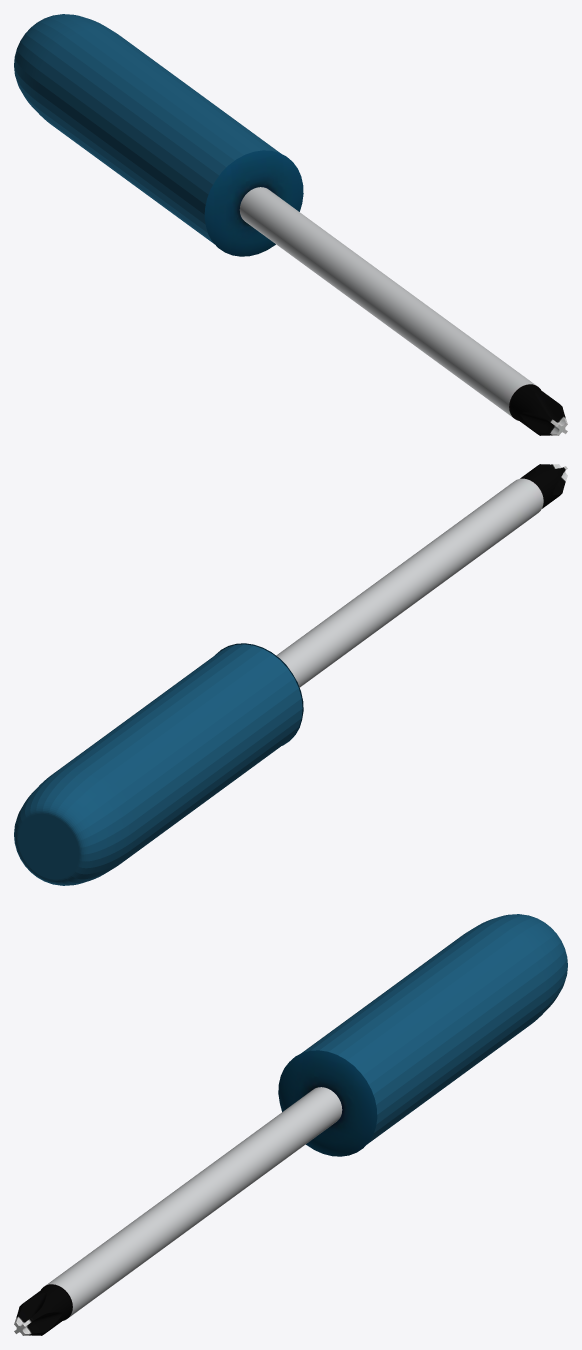
The model's file is screwdriver-final.glb.
3 renders of one model, top to bottom at view 1: azimuth 30°, elevation 25°; view 2: azimuth 150°, elevation 25°; view 3: azimuth 330°, elevation 25°, orthographic.
Parts seen in each view (by area): view 1: Cylinder, phillips_screwdriver_LP_Scene_Material_0; view 2: Cylinder, phillips_screwdriver_LP_Scene_Material_0; view 3: Cylinder, phillips_screwdriver_LP_Scene_Material_0.
Boxes of the visible parts, left/top/right/bottom form: Cylinder: left=14, top=14, right=280, bottom=244; phillips_screwdriver_LP_Scene_Material_0: left=204, top=150, right=567, bottom=435; Cylinder: left=14, top=644, right=302, bottom=885; phillips_screwdriver_LP_Scene_Material_0: left=215, top=464, right=567, bottom=745; Cylinder: left=302, top=914, right=567, bottom=1144; phillips_screwdriver_LP_Scene_Material_0: left=14, top=1050, right=377, bottom=1335.
Bounding box in the file's own units: 0.0168 × 0.0168 × 0.1512.
Materials: 2 (1 with a texture image).
